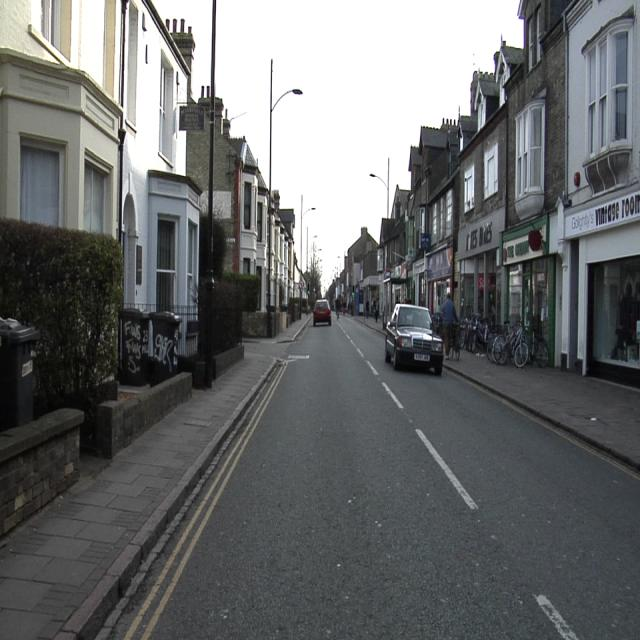Building: (329, 0, 638, 387), (5, 2, 208, 320), (213, 99, 298, 309)
Car: (386, 305, 442, 373), (314, 301, 331, 325)
Road: (96, 317, 634, 639)
Tree: (1, 221, 120, 409), (308, 236, 322, 306)
